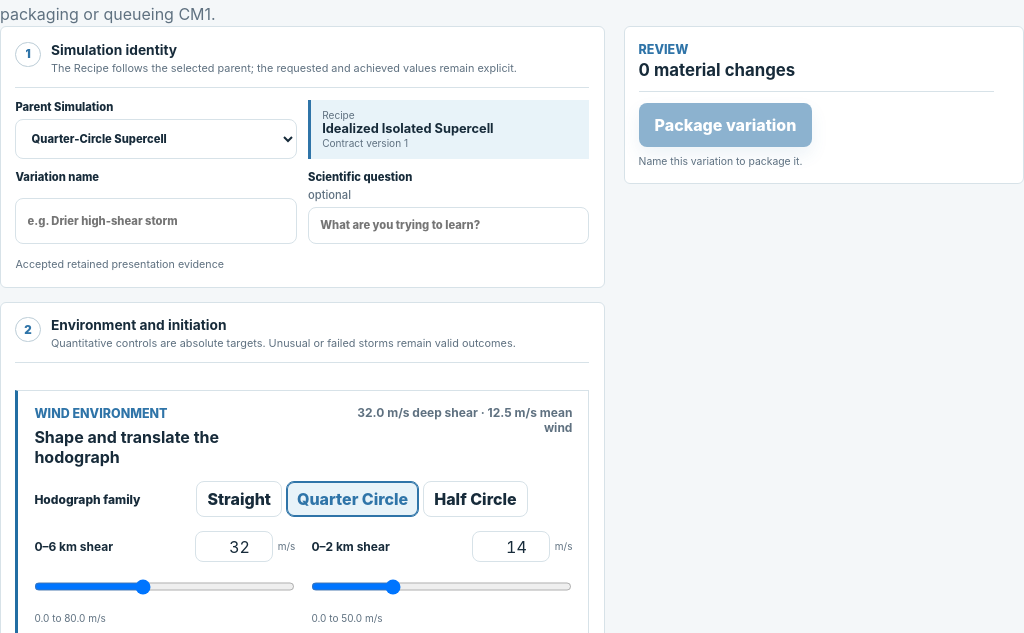
SupercellsVariationEditor › switches parent values without compounding and blocks impossible geometry
Select "Straight-Line Hodograph Supercell" in the dropdown labelled "Parent Simulation". click: (156, 139)
box: [15,120,297,159]
(page scrolled)
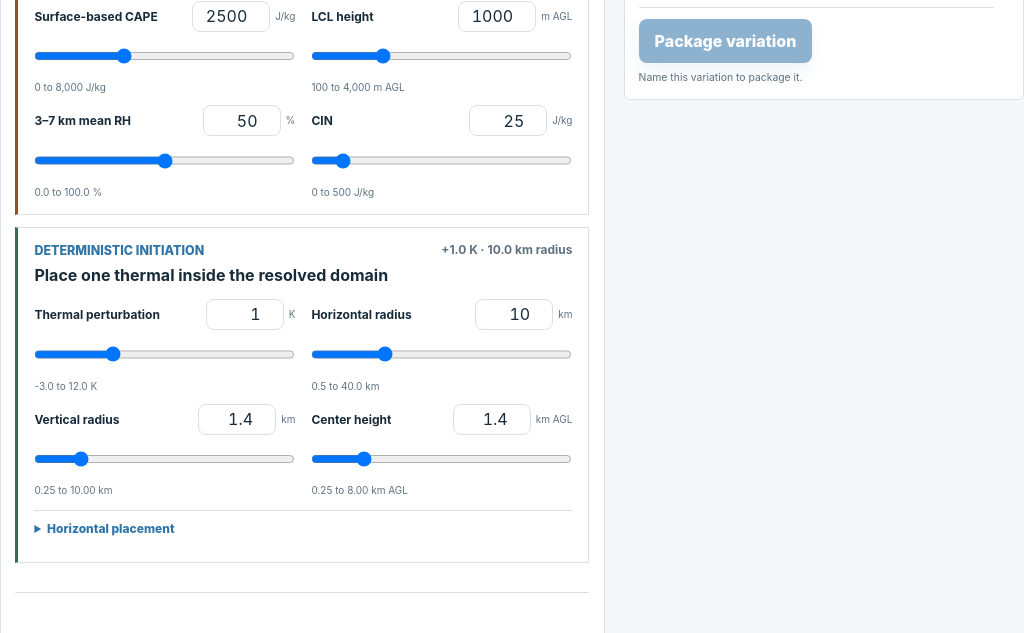
Replace the text in the number field named "Horizontal radius value" with "40". click: (514, 314)
box: [475,299,553,330]
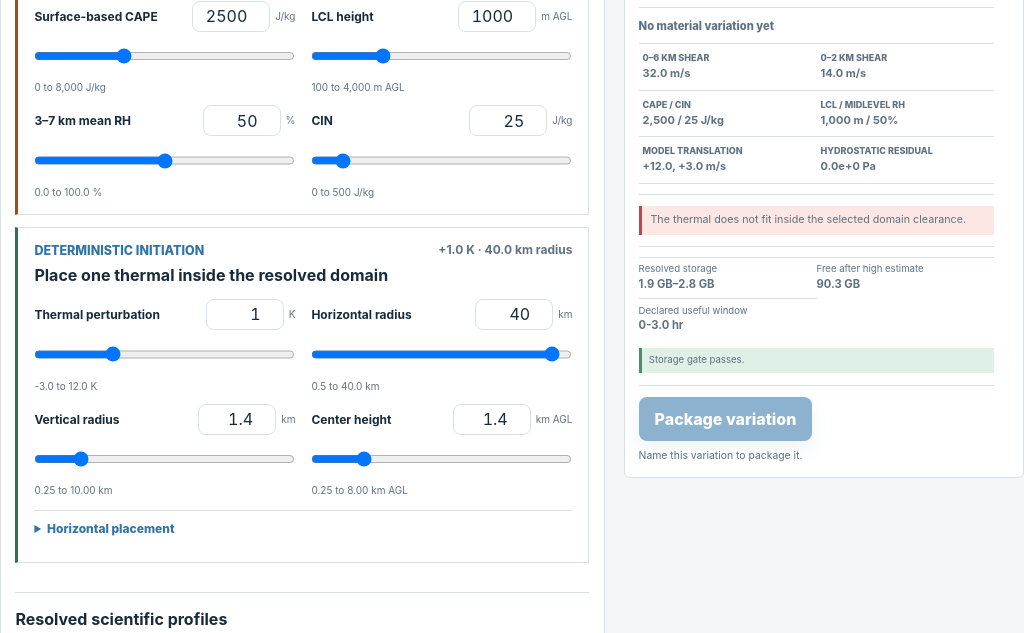
Expected: the button "Package variation" is disabled, [639,397,812,441]
Result: the text "The thermal does not fit inside the selected domain clearance." is shown at [639,207,994,235]
